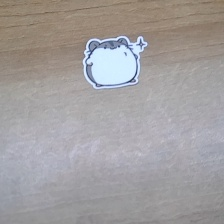mouse: (80, 34, 152, 90)
